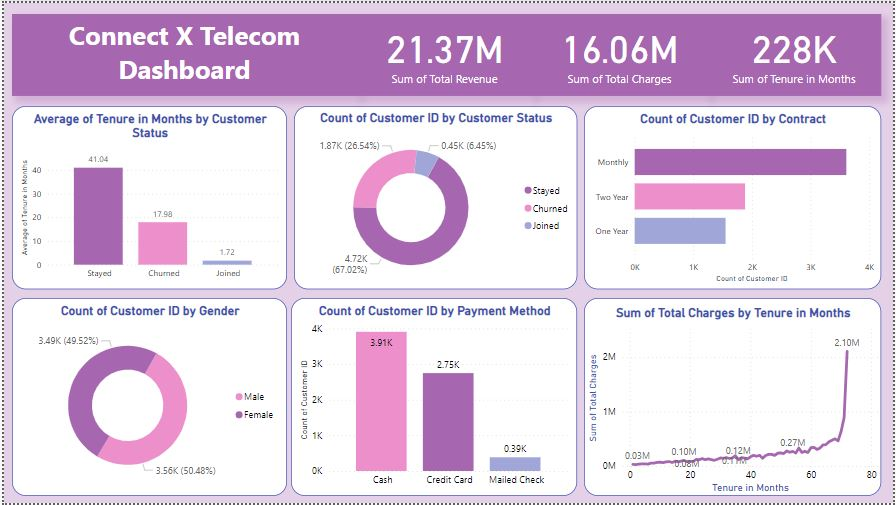

The dashboard page shown, as its layout file describes it:
{"tool":"powerbi","page":{"name":"Page 1","canvas":[1280,720],"ordinal":0},"visuals":[{"type":"pieChart","fields":{"Category":["Details.Customer Status"],"Y":["CountNonNull(Details.Customer ID)"]},"box":[417.6,148.3,407.5,263.5],"z":0},{"type":"donutChart","fields":{"Category":["Details.Gender"],"Y":["CountNonNull(Details.Customer ID)"]},"box":[11.5,424.8,396,285.1],"z":1000},{"type":"clusteredColumnChart","fields":{"Category":["Details.Customer Status"],"Y":["Avg(Details.Tenure in Months)"]},"box":[11.5,148.3,396,263.5],"z":2000},{"type":"clusteredBarChart","fields":{"Y":["CountNonNull(Details.Customer ID)"],"Category":["Details.Contract"]},"box":[835.2,148.3,427.7,263.5],"z":3000},{"type":"lineStackedColumnComboChart","fields":{"Category":["Details.Payment Method"],"Y":["CountNonNull(Details.Customer ID)"]},"box":[413.3,424.8,411.8,285.1],"z":4000},{"type":"lineChart","fields":{"Category":["Details.Tenure in Months"],"Y":["Sum(Details.Total Charges)"]},"box":[835.2,424.8,427.7,285.1],"z":5000},{"type":"card","fields":{"Values":["Sum(Details.Total Revenue)"]},"box":[508.3,15.8,252,118.1],"z":6000},{"type":"card","fields":{"Values":["Sum(Details.Total Charges)"]},"box":[760.3,15.8,252,118.1],"z":7000},{"type":"card","fields":{"Values":["Sum(Details.Tenure in Months)"]},"box":[1012.3,15.8,250.6,118.1],"z":8000},{"type":"textbox","box":[11.5,15.8,496.8,118.1],"z":9000}]}

Visuals, with their boxes in screenshot pixels (x1, y1, x2, y2), scaled from the page's 1280x720 canvas onto the 896x505 screenshot:
pieChart - Details.Customer Status x CountNonNull(Details.Customer ID): bbox(292, 104, 578, 289)
donutChart - Details.Gender x CountNonNull(Details.Customer ID): bbox(8, 298, 285, 498)
clusteredColumnChart - Details.Customer Status x Avg(Details.Tenure in Months): bbox(8, 104, 285, 289)
clusteredBarChart - CountNonNull(Details.Customer ID) x Details.Contract: bbox(585, 104, 884, 289)
lineStackedColumnComboChart - Details.Payment Method x CountNonNull(Details.Customer ID): bbox(289, 298, 578, 498)
lineChart - Details.Tenure in Months x Sum(Details.Total Charges): bbox(585, 298, 884, 498)
card - Sum(Details.Total Revenue): bbox(356, 11, 532, 94)
card - Sum(Details.Total Charges): bbox(532, 11, 709, 94)
card - Sum(Details.Tenure in Months): bbox(709, 11, 884, 94)
textbox: bbox(8, 11, 356, 94)
